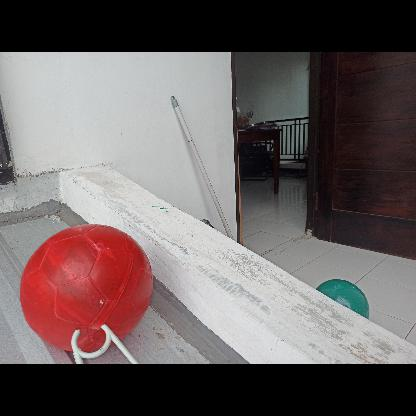red_ball: (19, 220, 153, 354)
